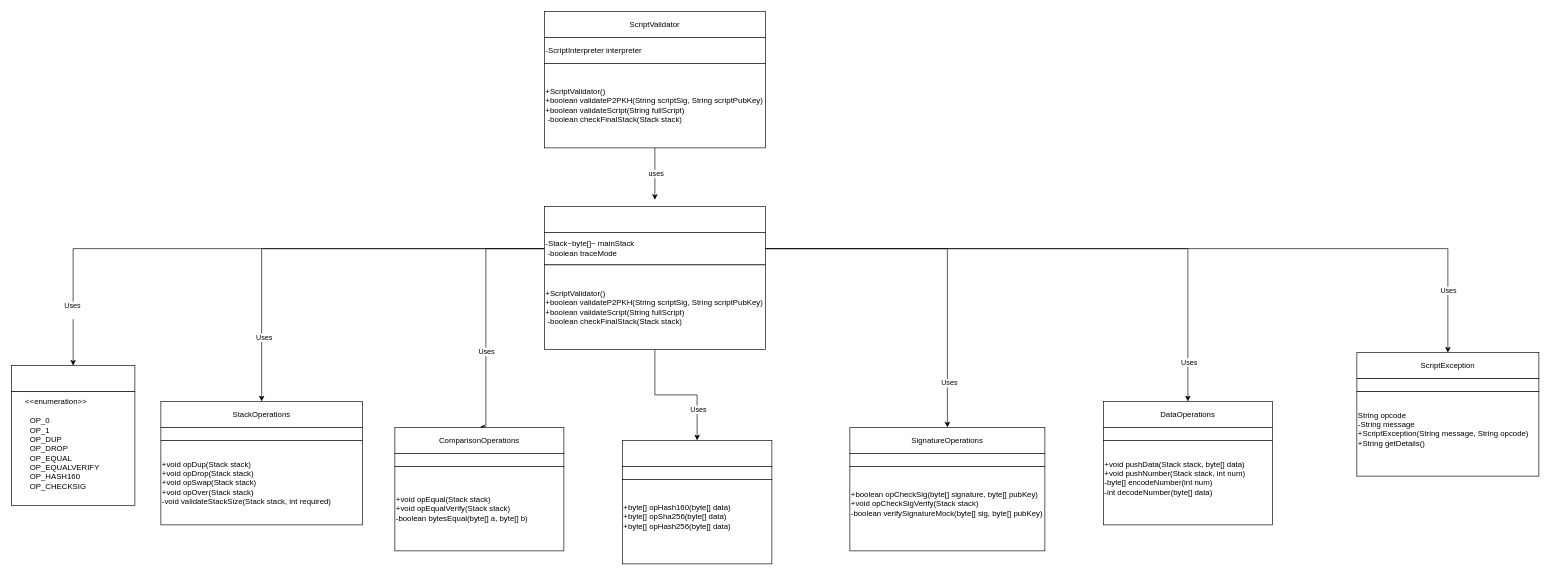
This 1550x575 diagram has some shape labels left out. The centre of each missing label's shape, as x and y in pixels:
"CryptoOperations" belongs at [697,453].
"OpCode" belongs at [73,378].
"ScriptInterpreter" belongs at [654,219].
